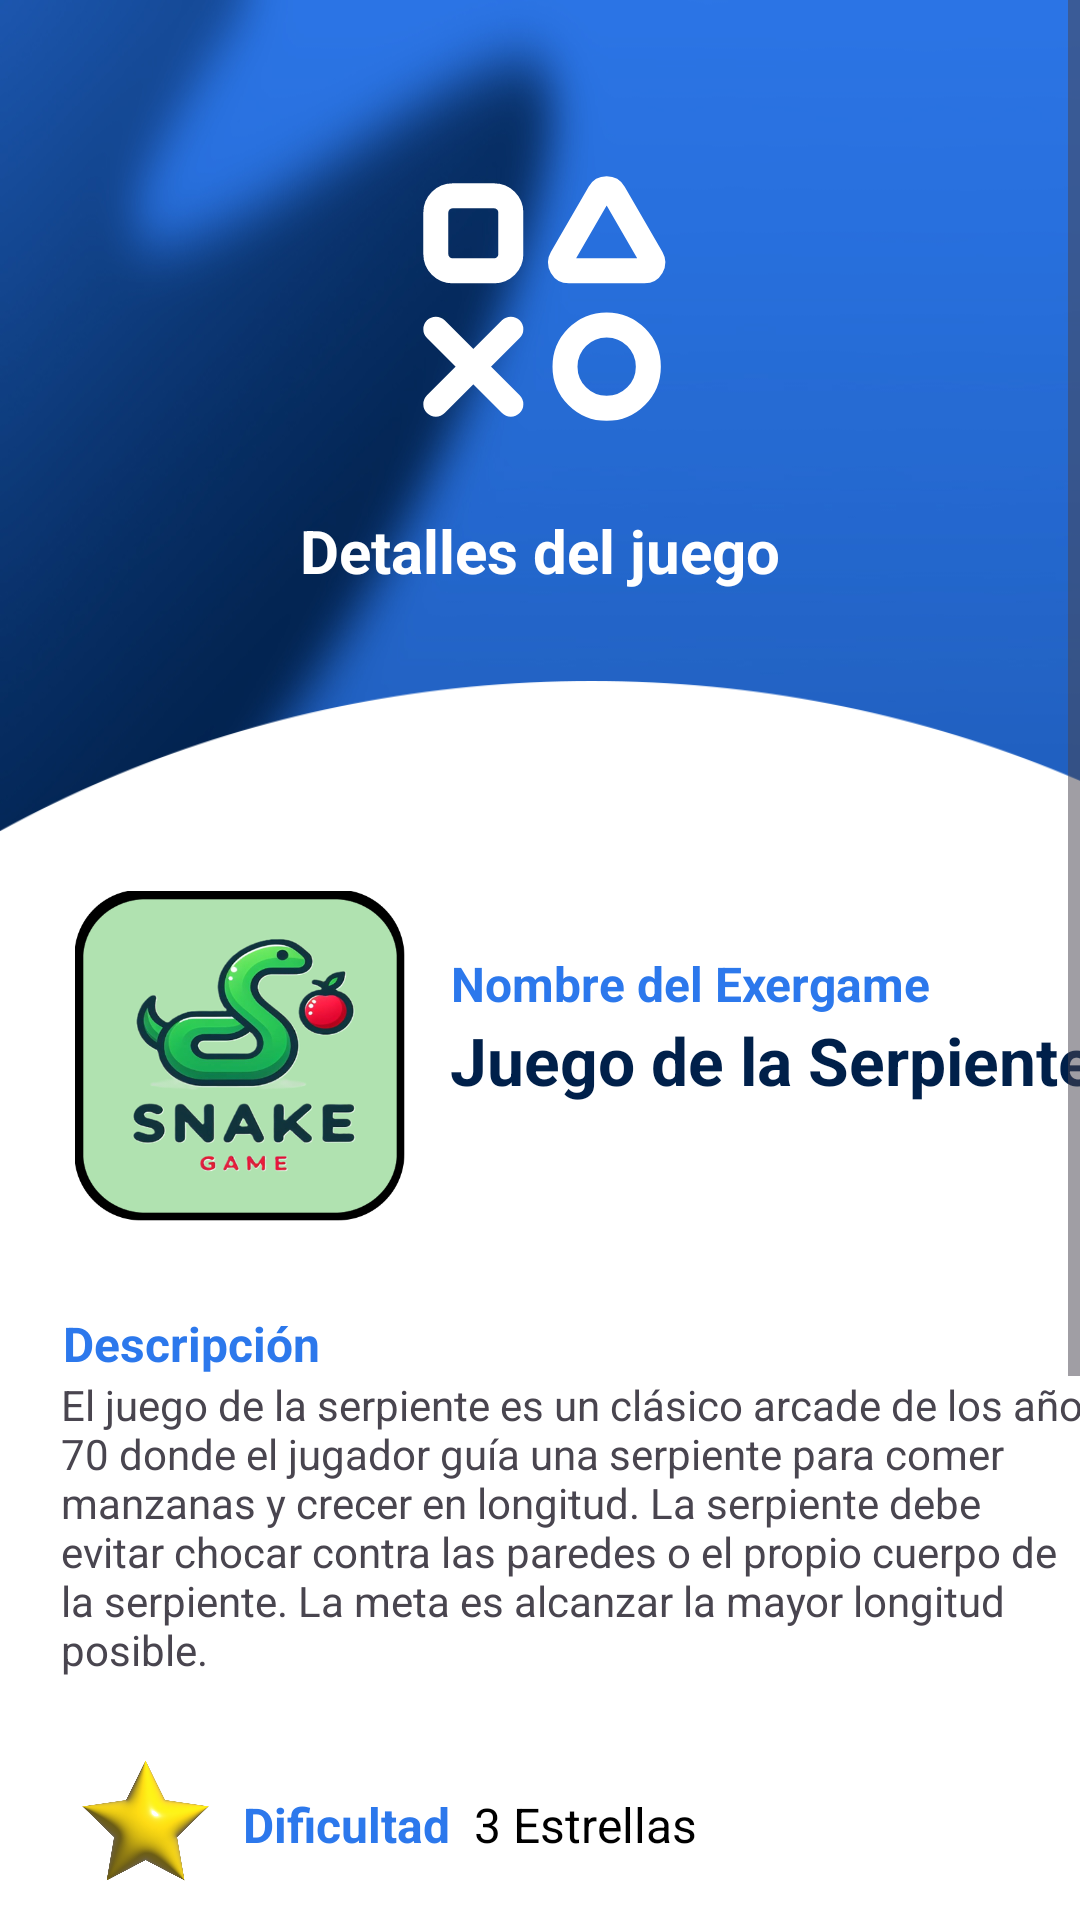

Screen size 1080px×1920px. Icon name, then its box in pixels as (x1, y1, x2, y2):
estrella: (82, 1761, 209, 1881)
